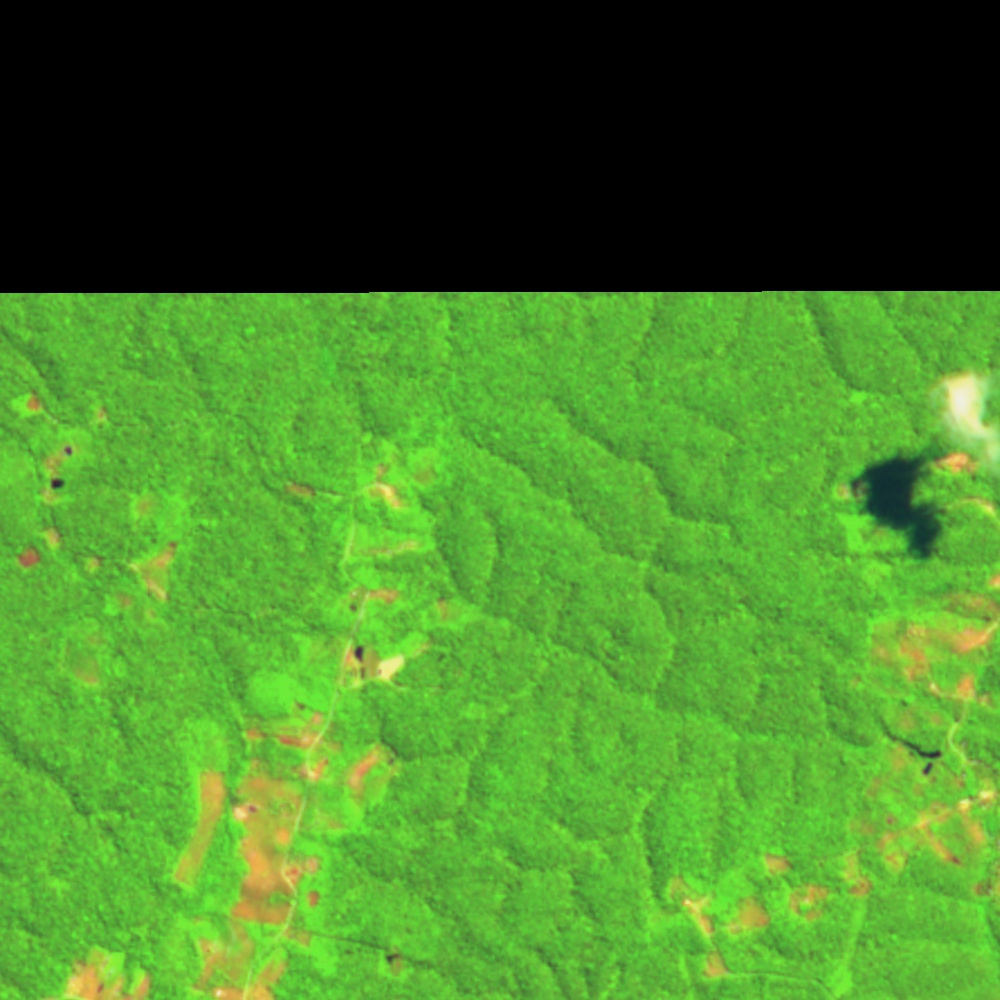legal: (850, 569, 1000, 685), (231, 756, 322, 947), (855, 786, 1000, 890), (184, 912, 313, 1000), (290, 449, 442, 503), (244, 698, 345, 775), (170, 764, 230, 891), (877, 711, 963, 791), (784, 850, 875, 923), (339, 631, 439, 695), (61, 943, 157, 1000), (935, 442, 1000, 520), (833, 476, 896, 551), (127, 494, 213, 536), (127, 537, 187, 597), (350, 741, 398, 809), (668, 873, 718, 937), (67, 628, 105, 686), (342, 578, 403, 614), (354, 529, 427, 559), (39, 441, 72, 505), (724, 894, 773, 937), (20, 525, 64, 571), (13, 390, 63, 425), (419, 588, 460, 629), (928, 678, 991, 703), (703, 942, 733, 978), (760, 851, 796, 878), (84, 554, 105, 575)
